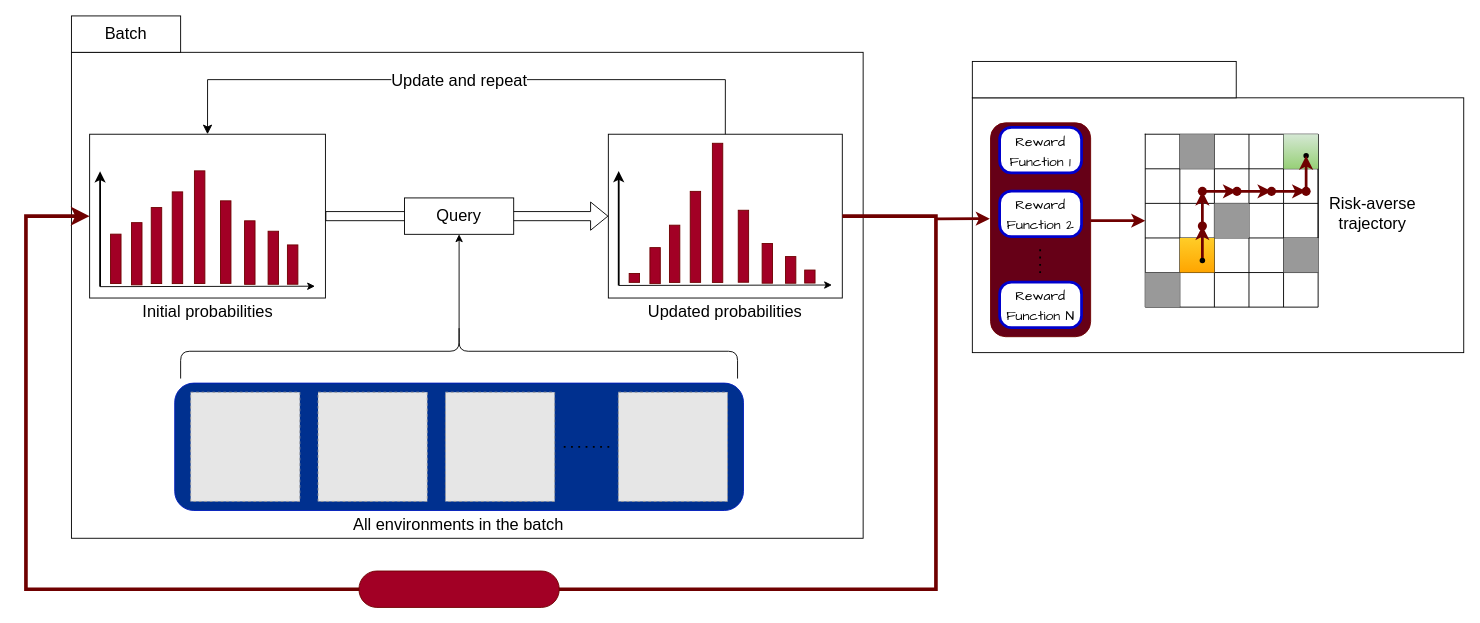
Some shapes in this 1480 by 623 pixel diagram are drawn without their labels. Grey dashed boxes stand in for pictures. Here are the shapes that lost their labels. From the top down, the centre of each, then its label:
At (x=1103, y=79): "For each environment in the batch".
At (x=458, y=588): "Move on to the next batch".
